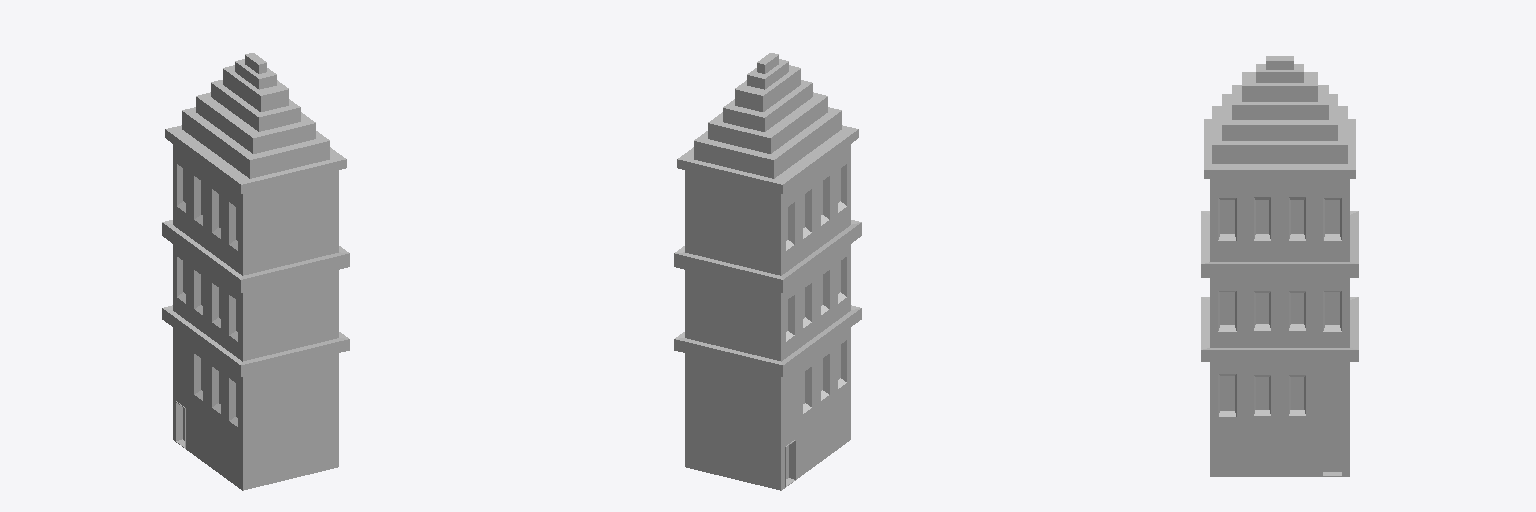
File: EDIFICIO 1.obj
3 renders of one model, left to right at view 1: azimuth 30°, elevation 25°; view 2: azimuth 150°, elevation 25°; view 3: azimuth 270°, elevation 25°, orthographic.
Parts seen in each view (by area): view 1: Cube.015; view 2: Cube.015; view 3: Cube.015.
Boxes of the visible parts, x1,y1,x2,y2 form: Cube.015: [162, 53, 349, 490]; Cube.015: [674, 53, 861, 490]; Cube.015: [1201, 56, 1358, 476].
Size of the model in its own units: 1577 by 5456 by 1975.